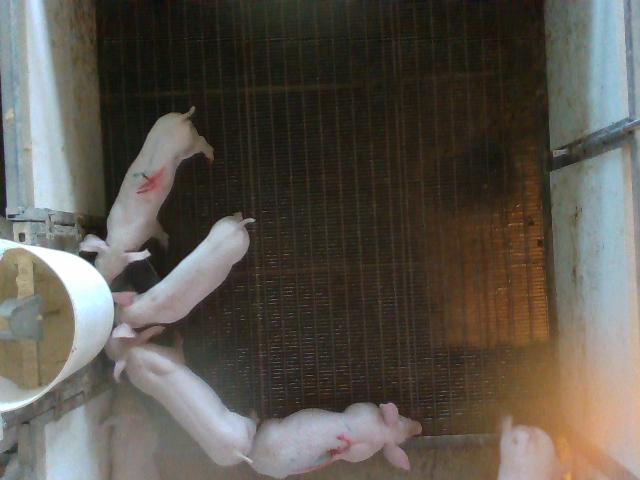pig-3: (249, 402, 421, 478)
pig-4: (80, 106, 214, 281)
